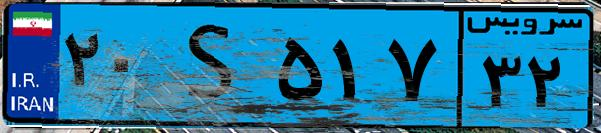0: (110, 28, 158, 98)
1: (330, 28, 385, 110)
2: (57, 26, 110, 100), (525, 38, 570, 115)
3: (475, 38, 525, 113)
5: (270, 28, 330, 110)
7: (385, 28, 445, 110)
S: (158, 12, 270, 120)
